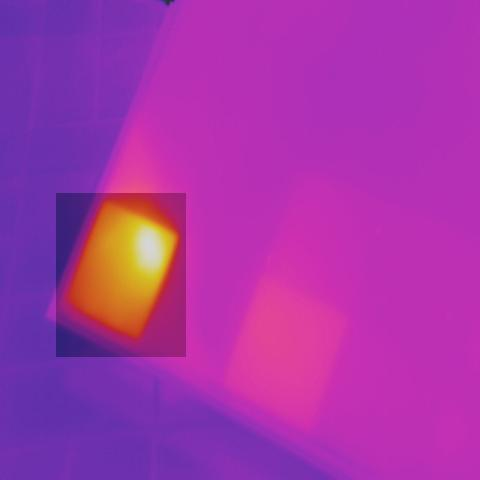fault: (56, 193, 186, 357)
